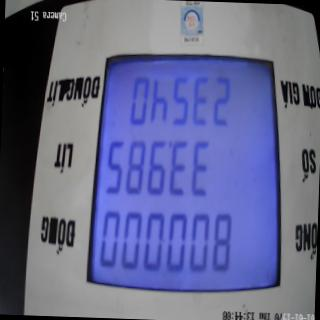screen: (81, 42, 292, 316)
